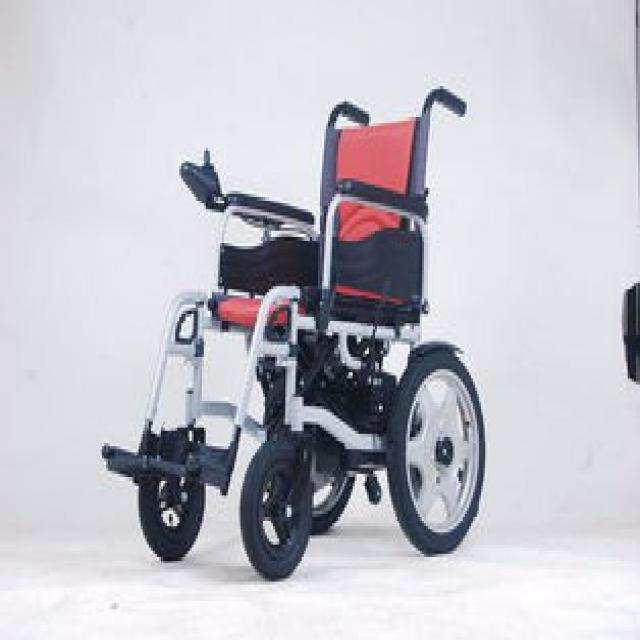wheelchair: (98, 83, 486, 588)
